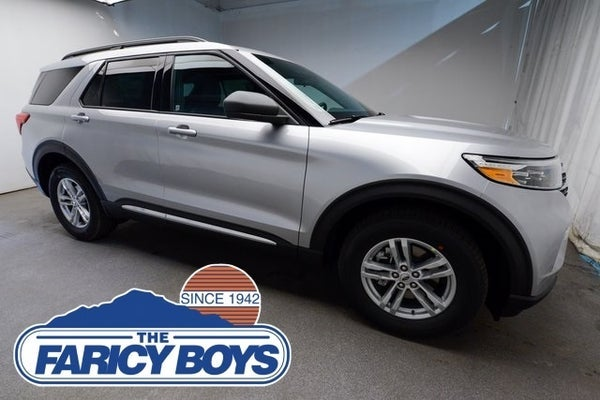Ford Explorer: (13, 32, 579, 347)
